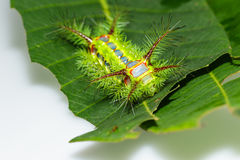ulat_api: (135, 25, 236, 160)
